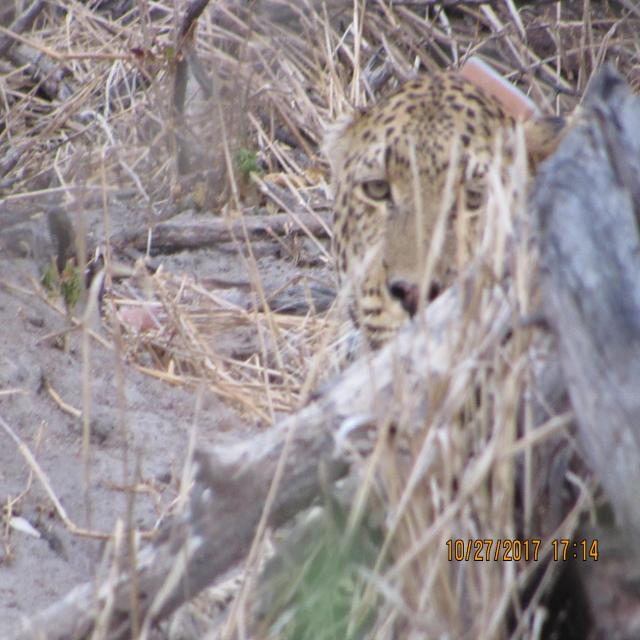Leopard: (178, 42, 562, 424)
